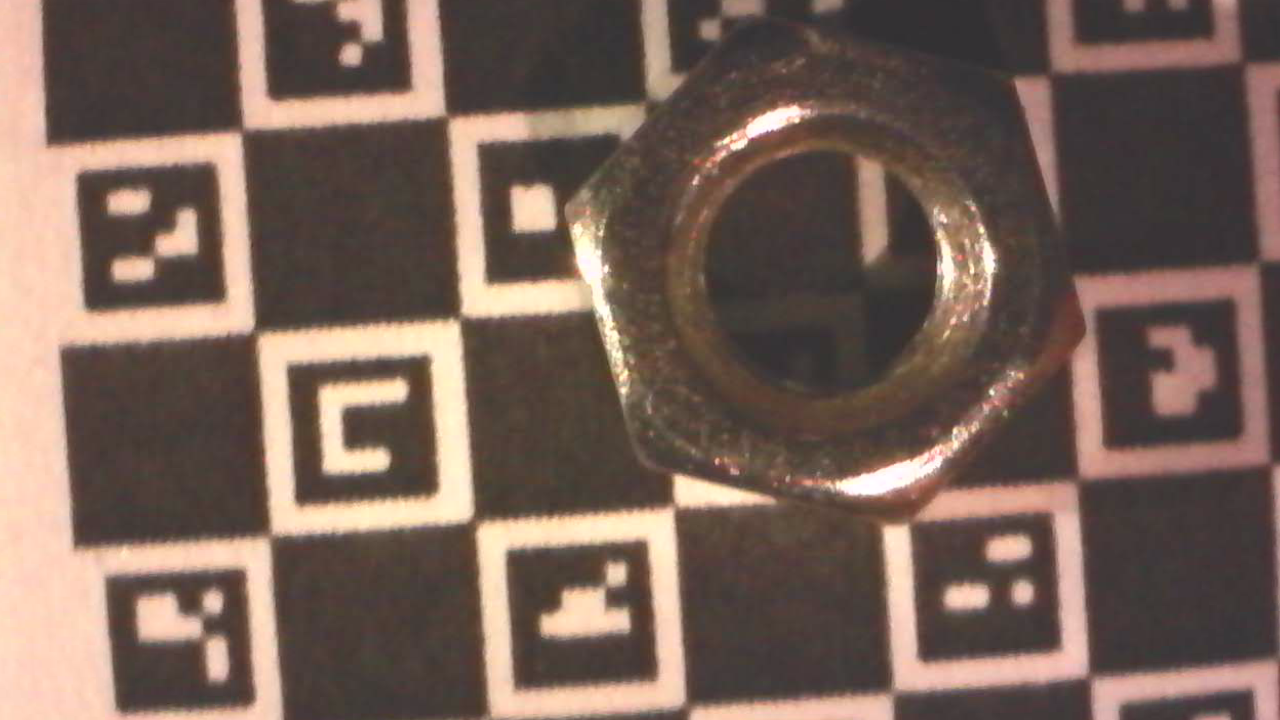Bolt: (559, 5, 1095, 529)
